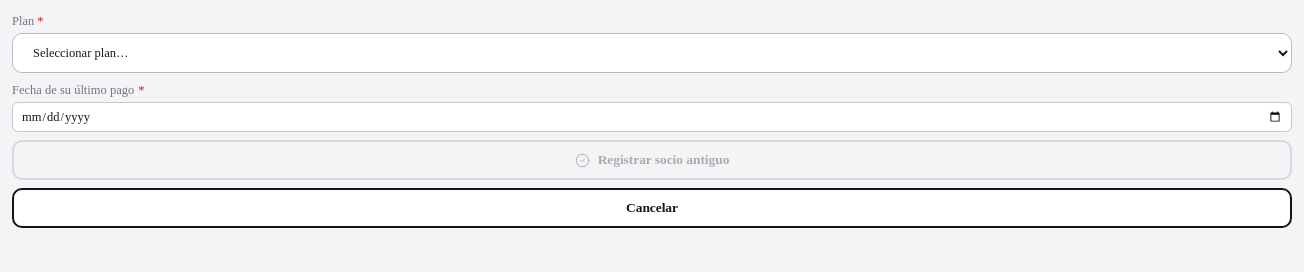
Scenario: MigrarSocioAntiguoForm › asks for the plan when there is no membership
Type "2026-09-20" into the date field labelled "Fecha de su último pago*".
click(652, 117); type("2026-09-20")  # box [12,102,1292,132]
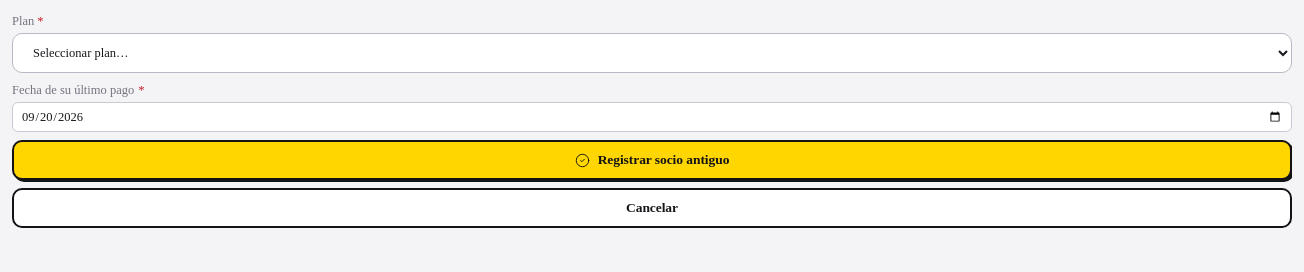
Click the button "Registrar socio antiguo".
click(652, 160)  # box [12,140,1292,180]
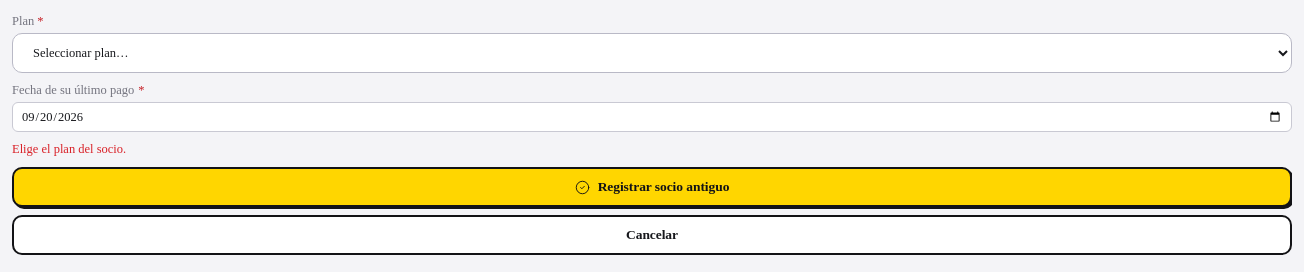
Check: the text "Elige el plan del socio." is shown, box [12,142,126,156]
